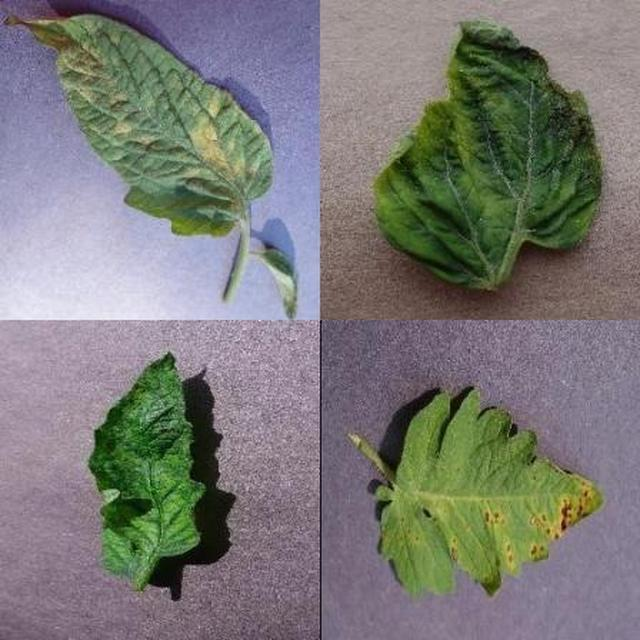Leaf Mold: (173, 181, 640, 640)
